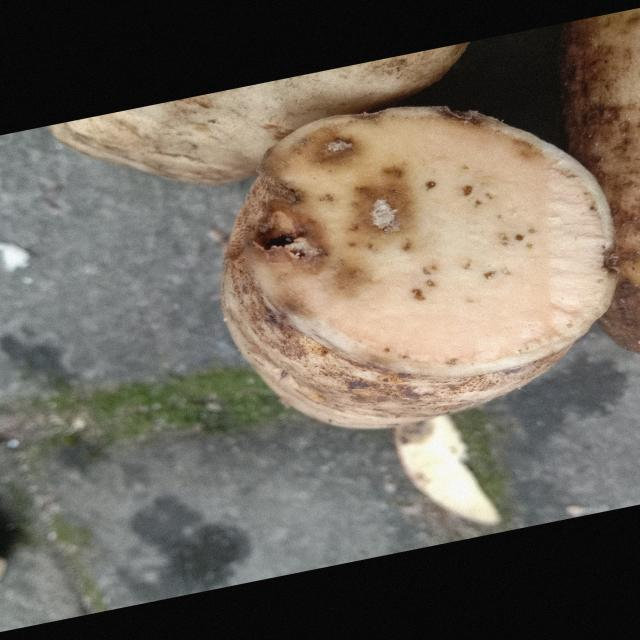Sick Sweet Potato_Tuber Rot: (242, 108, 615, 375)
